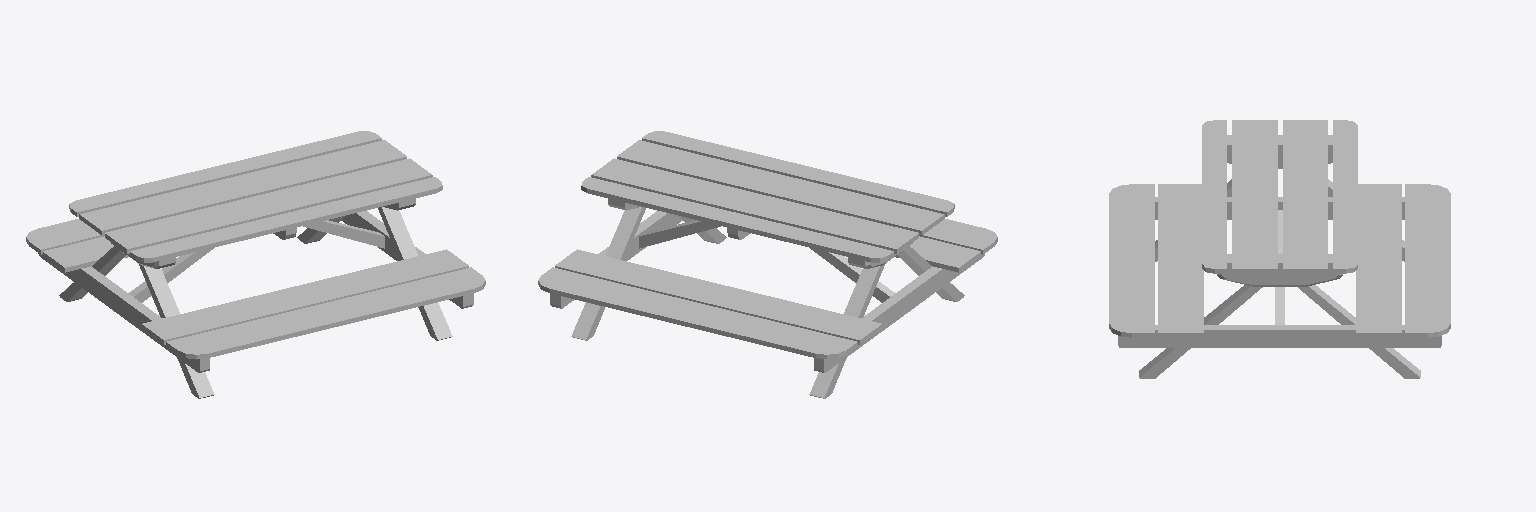
Rendered from bench.obj.
The picture shows the model from 3 angles: view 1: azimuth 30°, elevation 25°; view 2: azimuth 150°, elevation 25°; view 3: azimuth 270°, elevation 25°; orthographic projection.
Visible parts, largest first — view 1: defaultMaterial.001, defaultMaterial; view 2: defaultMaterial.001, defaultMaterial; view 3: defaultMaterial.001, defaultMaterial.
Boxes of the visible parts, x1,y1,x2,y2 form: defaultMaterial.001: [26, 131, 485, 359]; defaultMaterial: [38, 199, 473, 398]; defaultMaterial.001: [538, 131, 997, 359]; defaultMaterial: [550, 199, 984, 398]; defaultMaterial.001: [1109, 120, 1450, 337]; defaultMaterial: [1118, 135, 1441, 378].
Size of the model in its own units: 120 by 46.07 by 116.